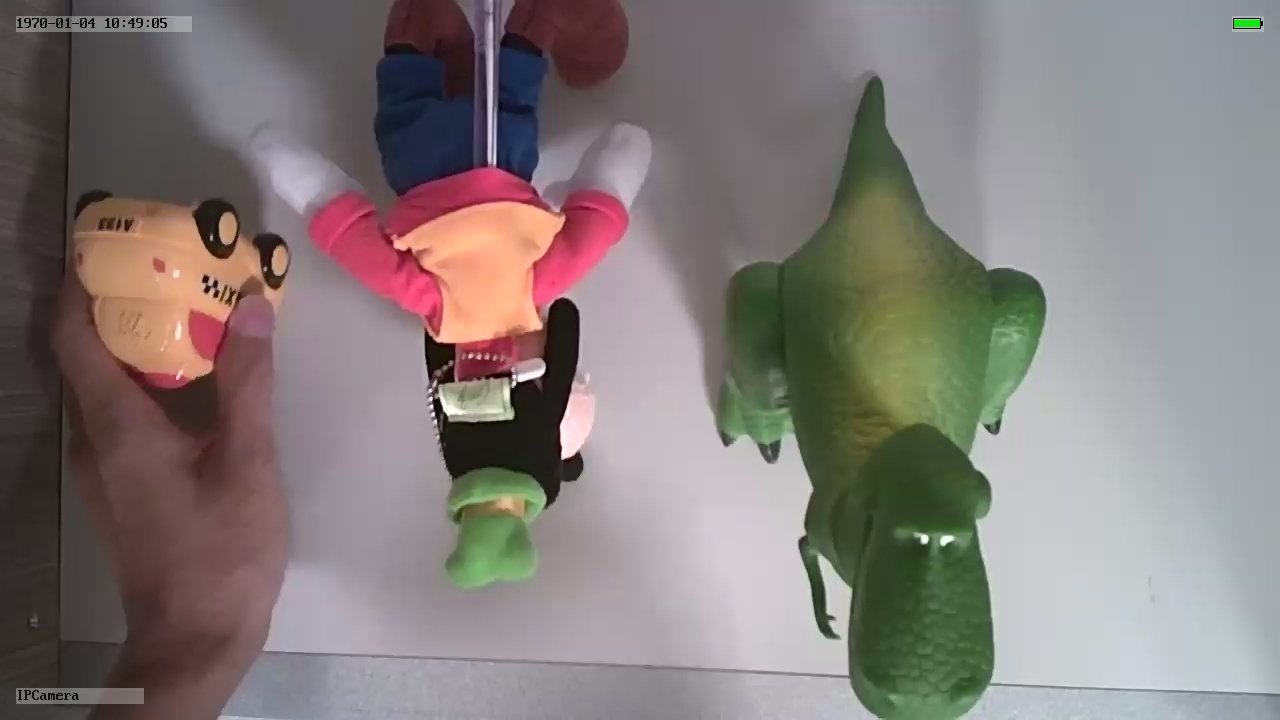rex: (714, 181, 1047, 720)
